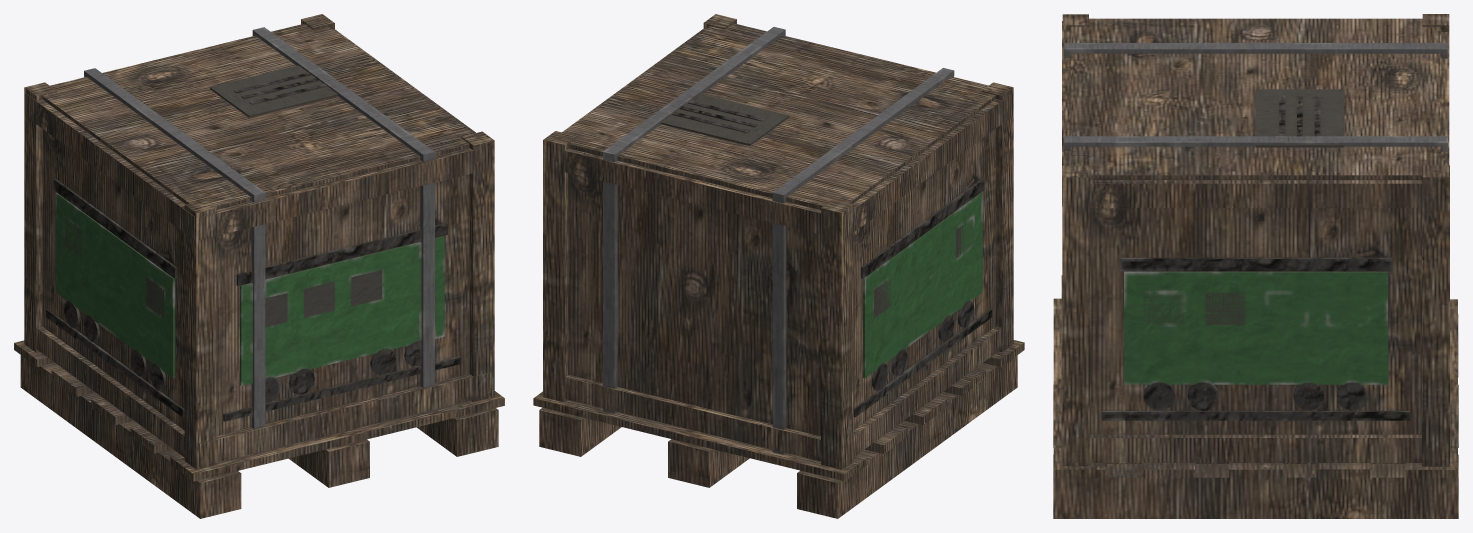
File: feWagonPassenger_HD.fbx
3 views of the same model, side by side, from view 1: azimuth 30°, elevation 25°; view 2: azimuth 150°, elevation 25°; view 3: azimuth 270°, elevation 25° (orthographic). The views are drawn at different scales.
Visible parts, largest first — view 1: feWagonPassenger_Kit; view 2: feWagonPassenger_Kit; view 3: feWagonPassenger_Kit.
Part boxes in pixels (<box>): feWagonPassenger_Kit: <box>14,14,504,518</box>; feWagonPassenger_Kit: <box>533,14,1024,518</box>; feWagonPassenger_Kit: <box>1053,14,1458,518</box>.
Bounding box in the file's own units: 0.9248 × 0.8653 × 0.9236.
1 material, 1 textured.
